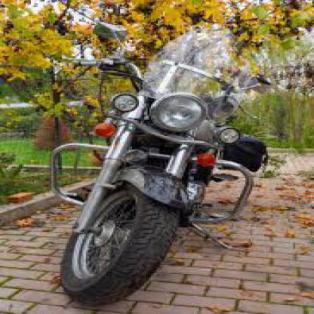Motocicleta: (45, 16, 276, 310)
